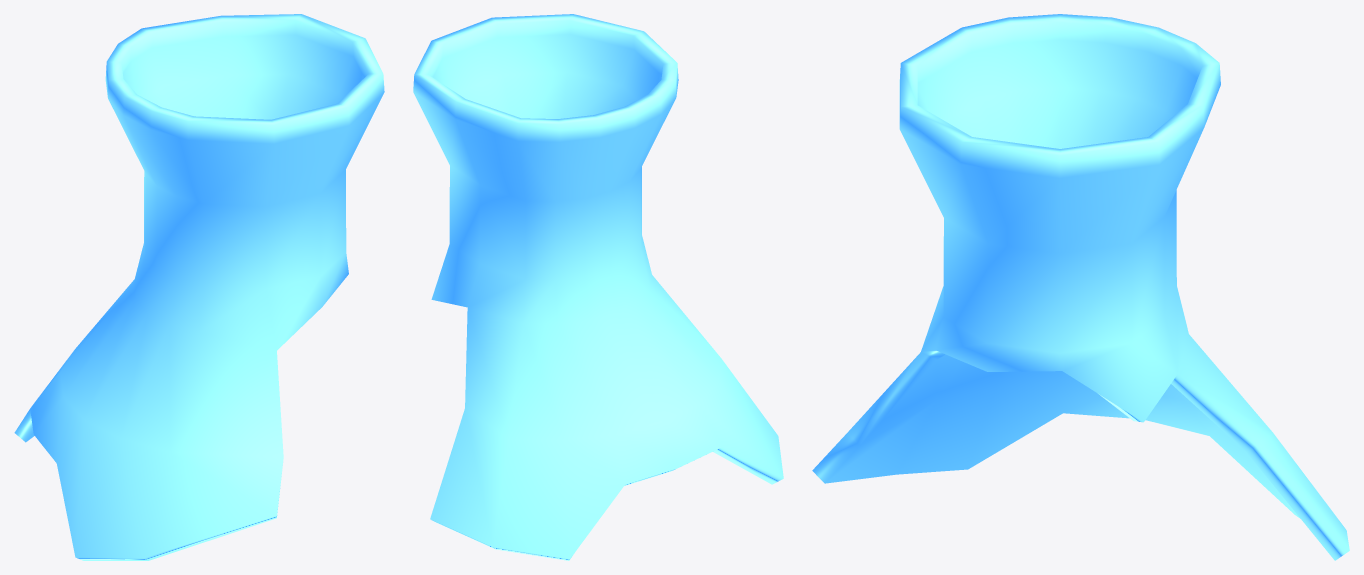
The model's file is vase_tall_broken02_005.fbx.
The picture shows the model from 3 angles, left to right: view 1: azimuth 30°, elevation 25°; view 2: azimuth 150°, elevation 25°; view 3: azimuth 270°, elevation 25°; orthographic projection. The views are drawn at different scales.
Parts seen in each view (by area): view 1: vase_tall_broken02.005; view 2: vase_tall_broken02.005; view 3: vase_tall_broken02.005.
Boxes of the visible parts, x1,y1,x2,y2 form: vase_tall_broken02.005: (14, 14, 384, 560); vase_tall_broken02.005: (413, 14, 783, 560); vase_tall_broken02.005: (812, 14, 1349, 560).
Bounding box in the file's own units: 3832 × 4604 × 4468.
